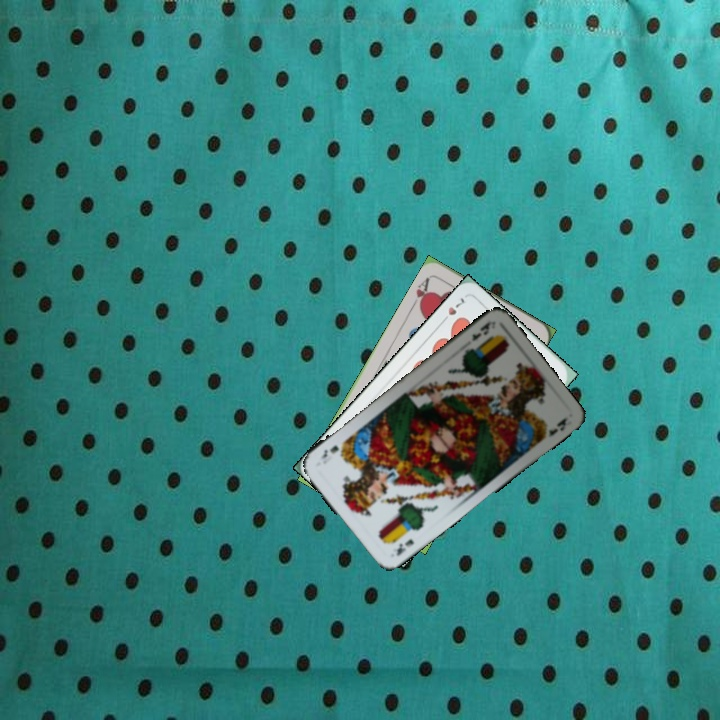EK: (467, 317, 495, 344), (392, 535, 417, 558)
H7: (437, 293, 468, 326)
HA: (408, 273, 433, 312)
